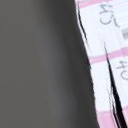crackTip: (95, 39, 127, 128)
